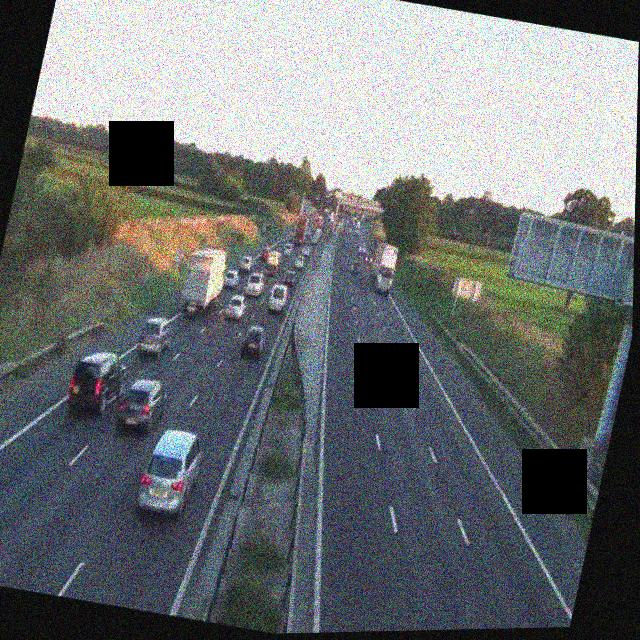car: (134, 425, 206, 521), (64, 345, 129, 421), (117, 374, 170, 436), (136, 314, 176, 359), (239, 323, 268, 360), (265, 284, 289, 316), (222, 292, 248, 321), (233, 261, 255, 291), (261, 254, 279, 275), (282, 270, 298, 291), (249, 249, 266, 267), (292, 253, 307, 270), (350, 259, 362, 275)
truck: (174, 242, 232, 320), (370, 241, 400, 293), (292, 217, 307, 241)
